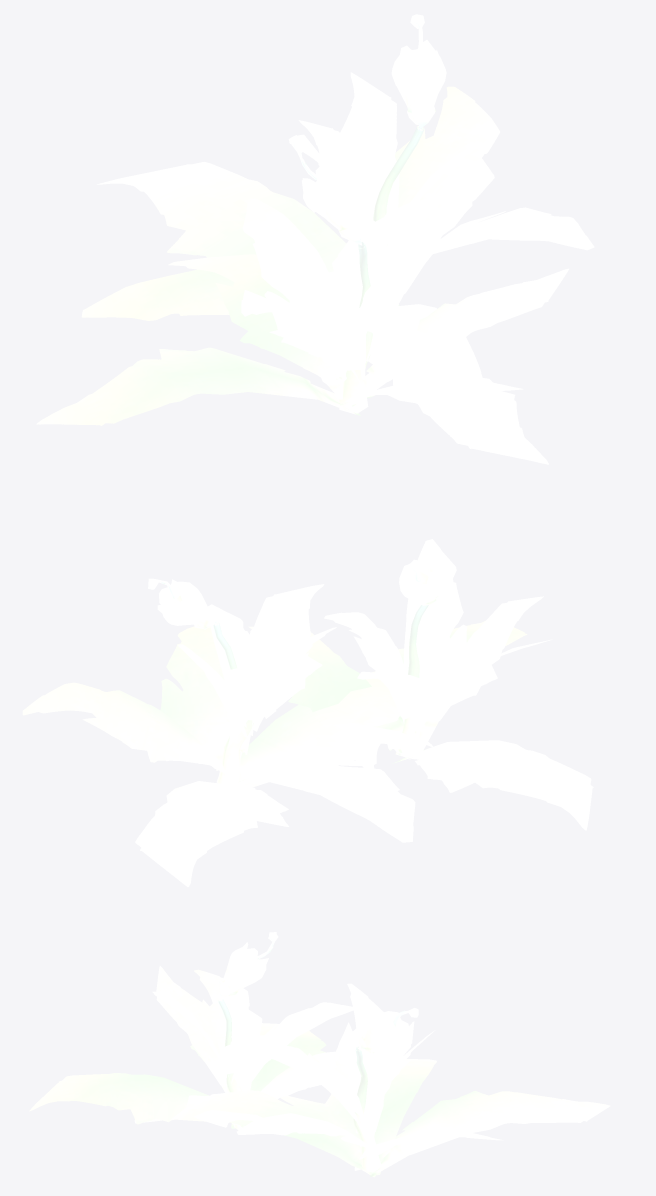
3 renders of one model, top to bottom at view 1: azimuth 30°, elevation 25°; view 2: azimuth 150°, elevation 25°; view 3: azimuth 270°, elevation 25°, orthographic. The views are drawn at different scales.
Parts seen in each view (by area): view 1: SM_BM_Fox_Glove_03_LOD0; view 2: SM_BM_Fox_Glove_03_LOD0; view 3: SM_BM_Fox_Glove_03_LOD0.
Part boxes in pixels (x1,y1,x2,y2): SM_BM_Fox_Glove_03_LOD0: (36,14,594,464); SM_BM_Fox_Glove_03_LOD0: (22,539,593,886); SM_BM_Fox_Glove_03_LOD0: (29,932,610,1177).
Size of the model in its own units: 0.569 by 0.2358 by 0.7129.
Materials: 1 (1 with a texture image).
